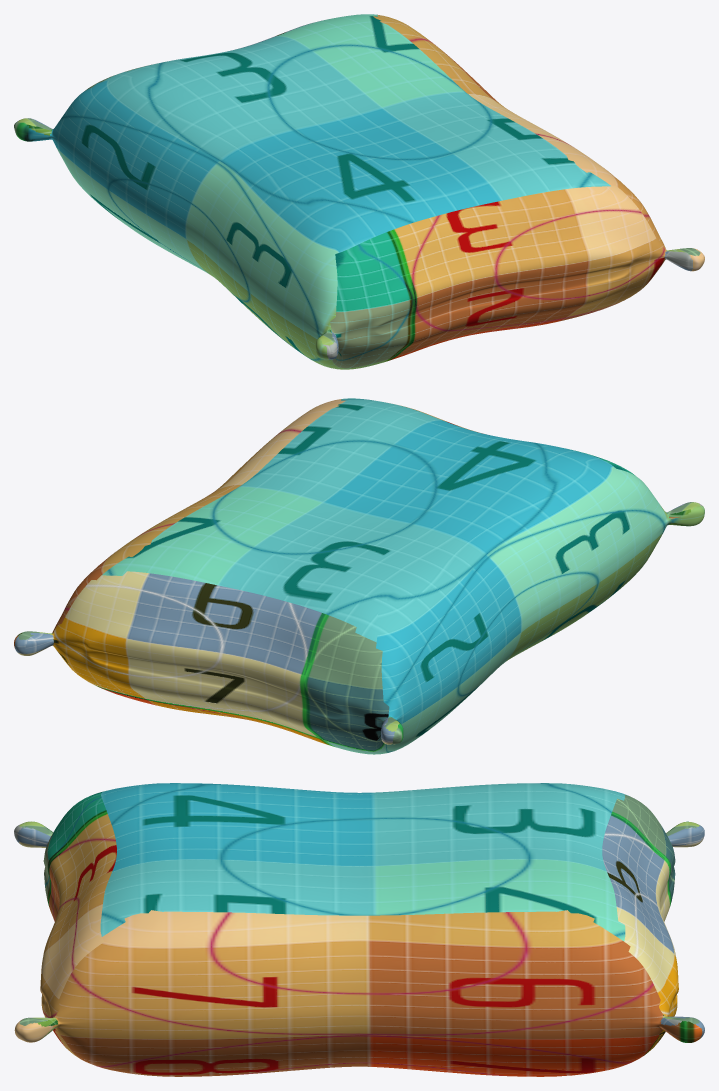
File: vibrant_floor_cushion_1.glb
3 renders of one model, top to bottom at view 1: azimuth 30°, elevation 25°; view 2: azimuth 150°, elevation 25°; view 3: azimuth 270°, elevation 25°, orthographic. The views are drawn at different scales.
Visible parts, largest first — view 1: pCube1; view 2: pCube1; view 3: pCube1.
Part boxes in pixels (bbox=[...]): pCube1: bbox=[14, 14, 704, 369]; pCube1: bbox=[14, 398, 704, 754]; pCube1: bbox=[14, 783, 704, 1076].
Size of the model in its own units: 5.6 by 2.17 by 7.89.
Materials: 1 (1 with a texture image).
